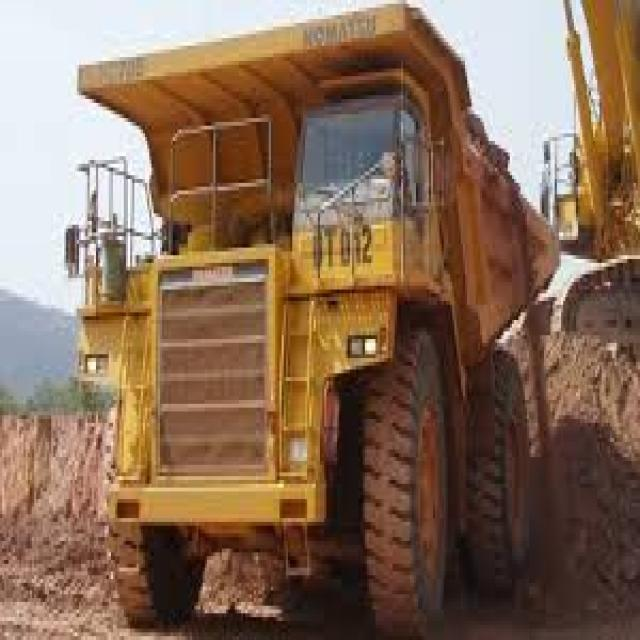dump_truck: (63, 1, 564, 632)
